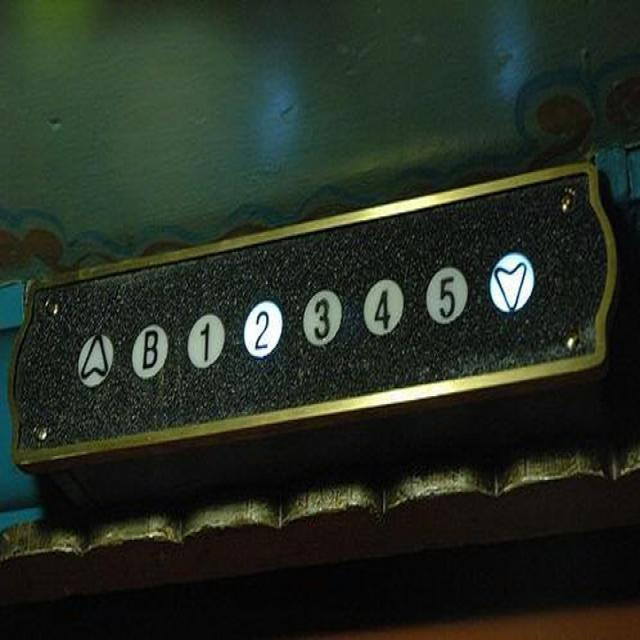1: (187, 312, 224, 368)
2: (243, 298, 282, 354)
3: (302, 288, 342, 345)
4: (362, 279, 403, 333)
5: (424, 267, 468, 325)
B: (131, 322, 168, 378)
down: (488, 251, 534, 313)
up: (75, 332, 114, 385)
